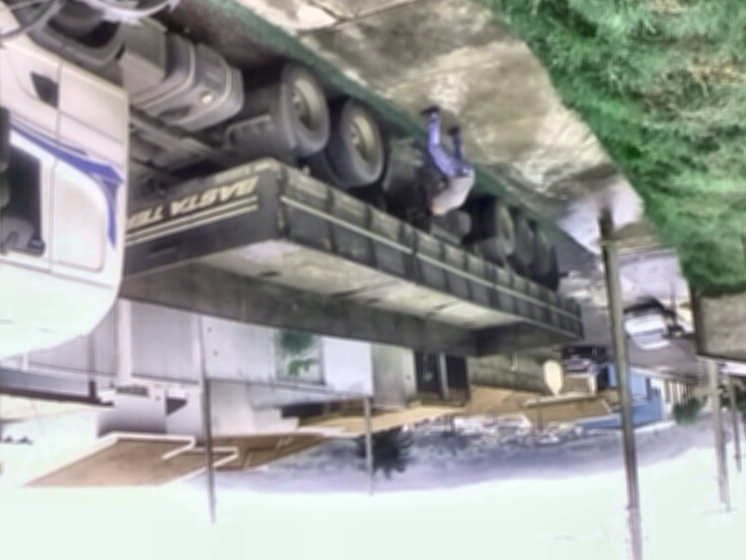person: (418, 106, 477, 216)
